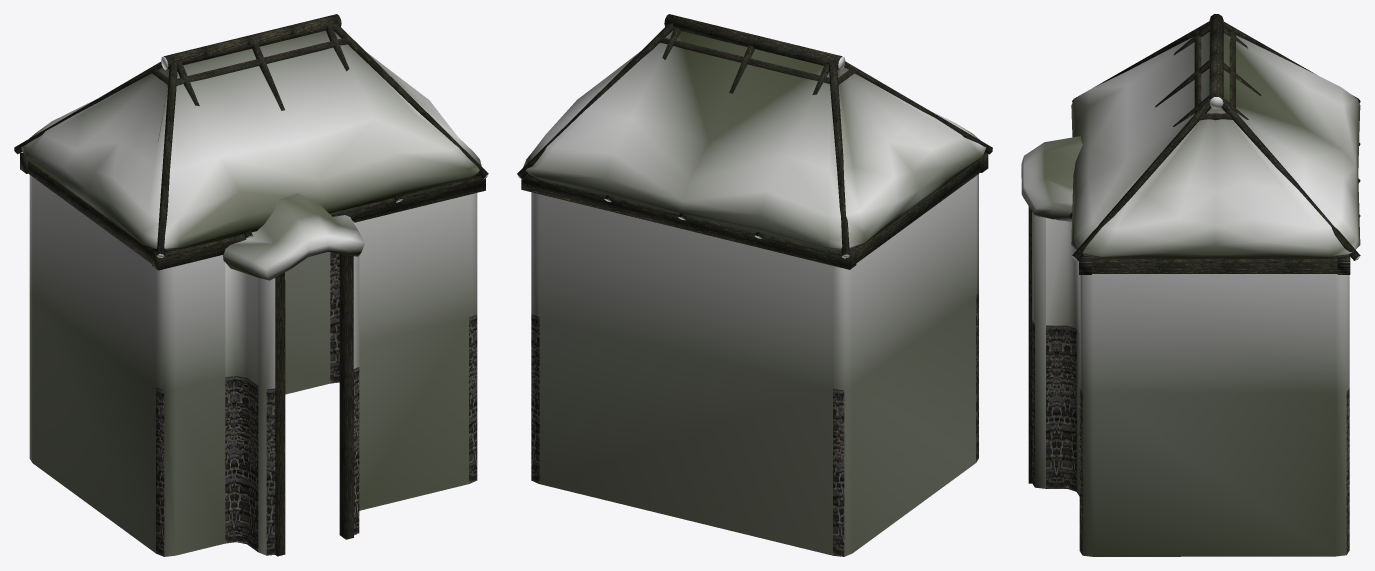
The model's file is ex_nord_house_05.dae.
The picture shows the model from 3 angles, left to right: view 1: azimuth 30°, elevation 25°; view 2: azimuth 150°, elevation 25°; view 3: azimuth 270°, elevation 25°; orthographic projection. The views are drawn at different scales.
Visible parts, largest first — view 1: nifid_32-matrix, nifid_24-matrix, nifid_20-matrix, nifid_1-matrix, nifid_6-matrix, nifid_15-matrix, nifid_11-matrix, nifid_44-matrix, nifid_36-matrix, nifid_40-matrix; view 2: nifid_24-matrix, nifid_32-matrix, nifid_20-matrix, nifid_1-matrix, nifid_6-matrix, nifid_44-matrix, nifid_11-matrix, nifid_40-matrix; view 3: nifid_32-matrix, nifid_24-matrix, nifid_20-matrix, nifid_1-matrix, nifid_11-matrix, nifid_40-matrix, nifid_15-matrix, nifid_6-matrix, nifid_36-matrix, nifid_44-matrix.
Boxes of the visible parts, x1,y1,x2,y2 form: nifid_32-matrix: [21, 30, 481, 280]; nifid_24-matrix: [32, 252, 468, 555]; nifid_20-matrix: [32, 143, 468, 389]; nifid_1-matrix: [14, 14, 488, 556]; nifid_6-matrix: [156, 252, 477, 556]; nifid_15-matrix: [225, 376, 258, 551]; nifid_11-matrix: [29, 292, 266, 556]; nifid_44-matrix: [156, 193, 477, 390]; nifid_36-matrix: [225, 221, 355, 385]; nifid_40-matrix: [29, 175, 266, 390]; nifid_24-matrix: [539, 296, 975, 555]; nifid_32-matrix: [523, 30, 985, 250]; nifid_20-matrix: [539, 176, 975, 388]; nifid_1-matrix: [517, 14, 992, 269]; nifid_6-matrix: [531, 292, 978, 556]; nifid_44-matrix: [531, 174, 978, 389]; nifid_11-matrix: [844, 387, 852, 556]; nifid_40-matrix: [844, 268, 852, 389]; nifid_32-matrix: [1021, 32, 1360, 258]; nifid_24-matrix: [1093, 393, 1335, 556]; nifid_20-matrix: [1093, 274, 1335, 393]; nifid_1-matrix: [1028, 14, 1360, 483]; nifid_11-matrix: [1035, 324, 1346, 556]; nifid_40-matrix: [1035, 215, 1346, 393]; nifid_15-matrix: [1046, 325, 1067, 488]; nifid_6-matrix: [1032, 321, 1349, 554]; nifid_36-matrix: [1046, 218, 1079, 332]; nifid_44-matrix: [1032, 212, 1349, 391].
Size of the model in its own units: 545 by 482 by 667.
5 materials, 3 textured.
